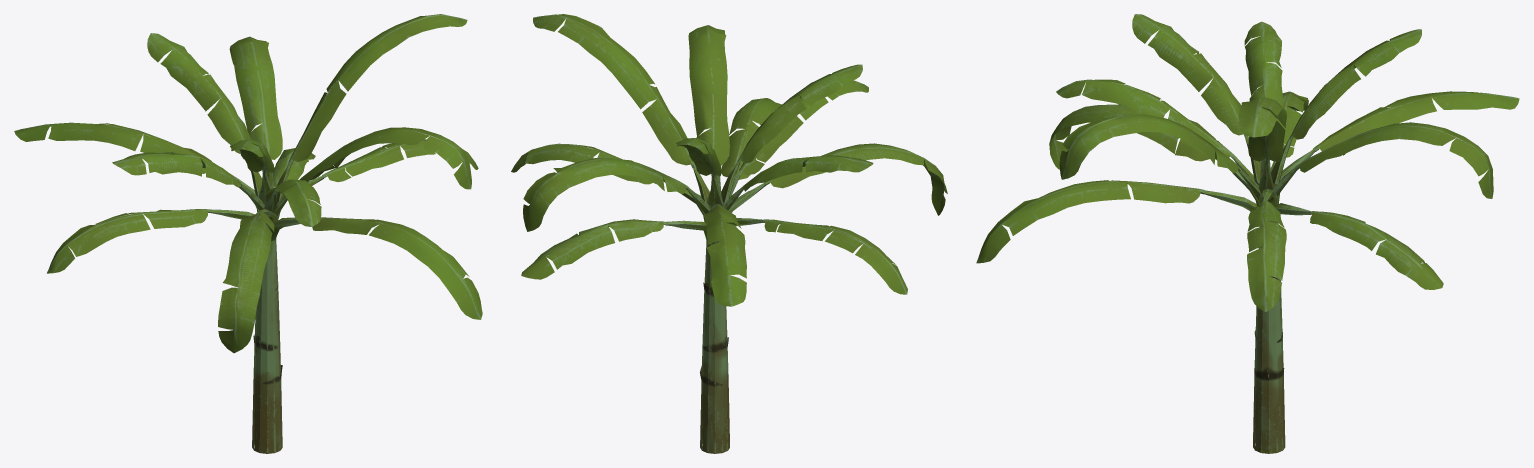
The model's file is Banana.fbx.
The picture shows the model from 3 angles, left to right: view 1: azimuth 30°, elevation 25°; view 2: azimuth 150°, elevation 25°; view 3: azimuth 270°, elevation 25°; orthographic projection. The views are drawn at different scales.
Visible parts, largest first — view 1: Prop; view 2: Prop; view 3: Prop.
Boxes of the visible parts, bbox=[...] form: Prop: bbox=[14, 14, 482, 453]; Prop: bbox=[511, 14, 947, 453]; Prop: bbox=[976, 14, 1519, 453].
Size of the model in its own units: 11.11 by 10.1 by 11.81.
Materials: 1 (1 with a texture image).
